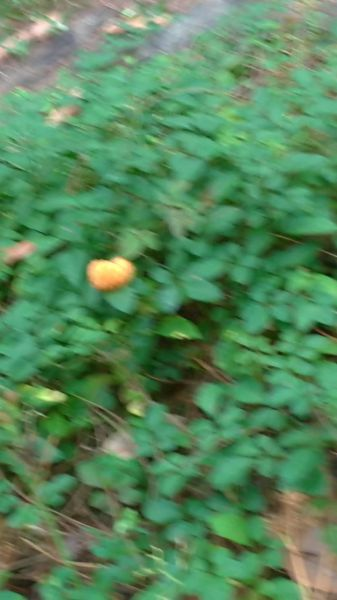eggs: (79, 250, 140, 295)
